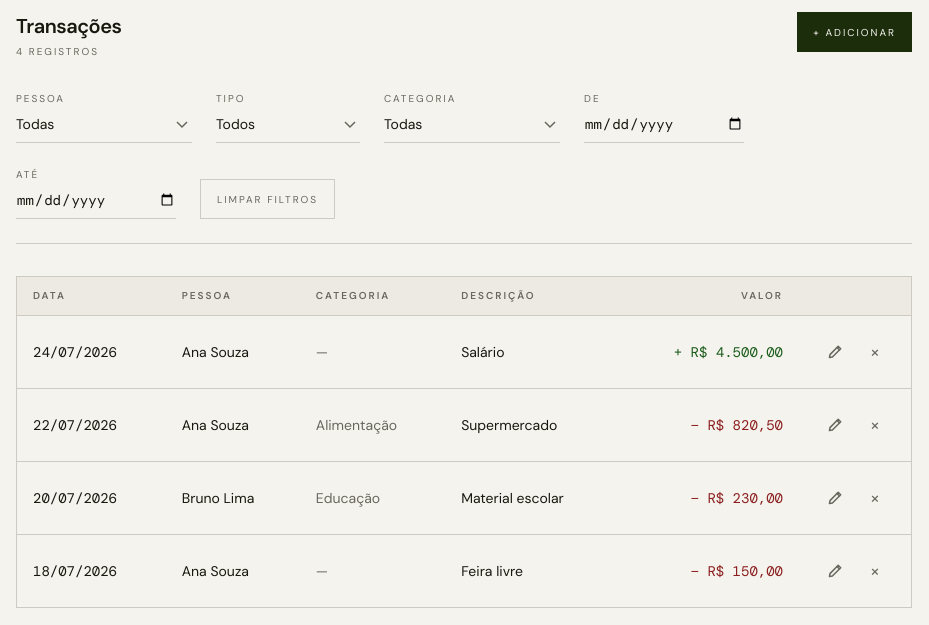
Test: transações › filtra a lista por tipo
Check: the text "Supermercado" is shown, box [445, 389, 618, 462]
Select "Receita" in the dropdown labelled "Tipo" at (288, 124), box [216, 106, 360, 143]
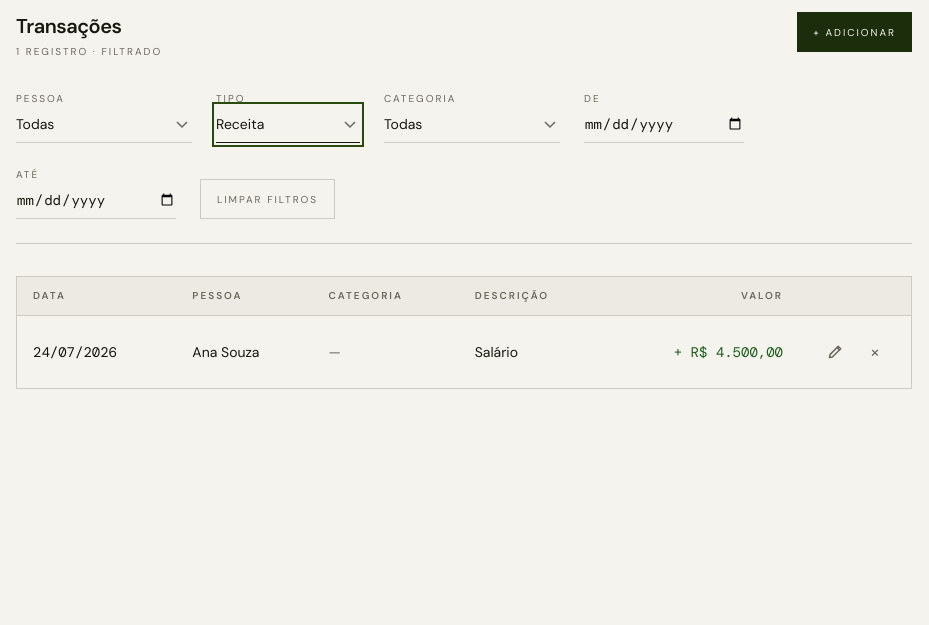
Check: the text "Salário" is shown, box [459, 316, 605, 388]
Check: the text "Supermercado" is gone
